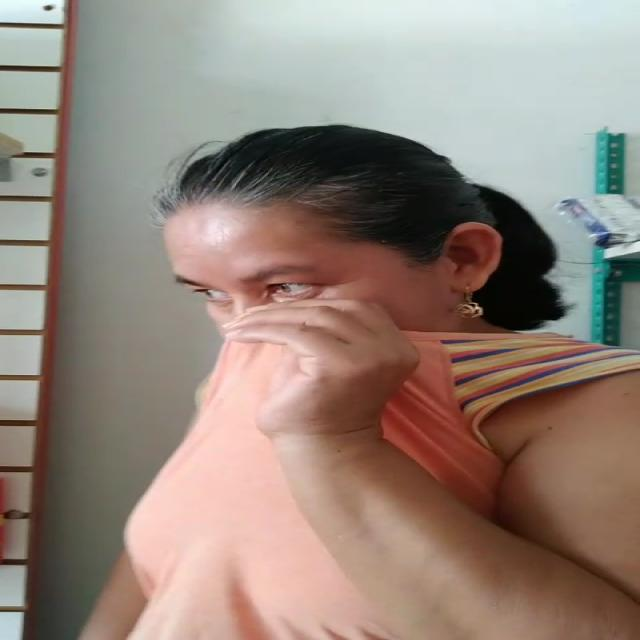8_ropa_rostro: (222, 301, 455, 431)
